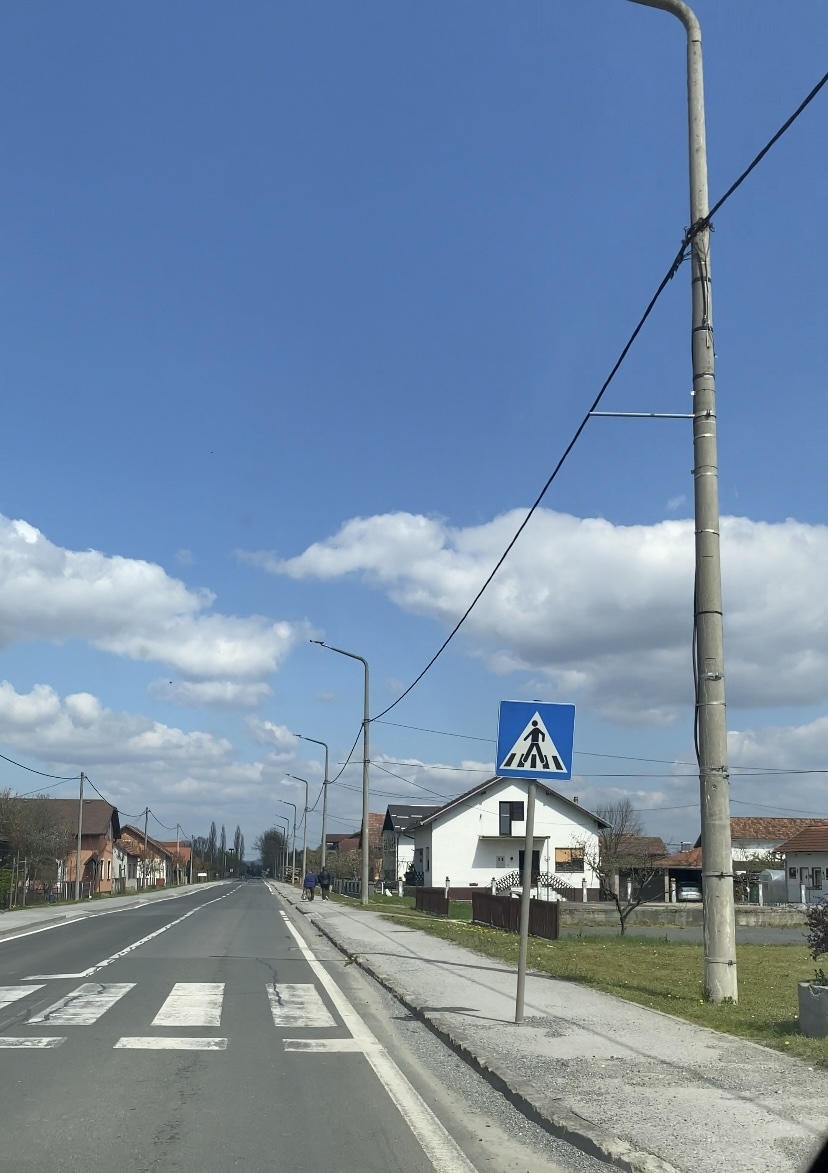Pješački prijelaz: (495, 700, 576, 781)
